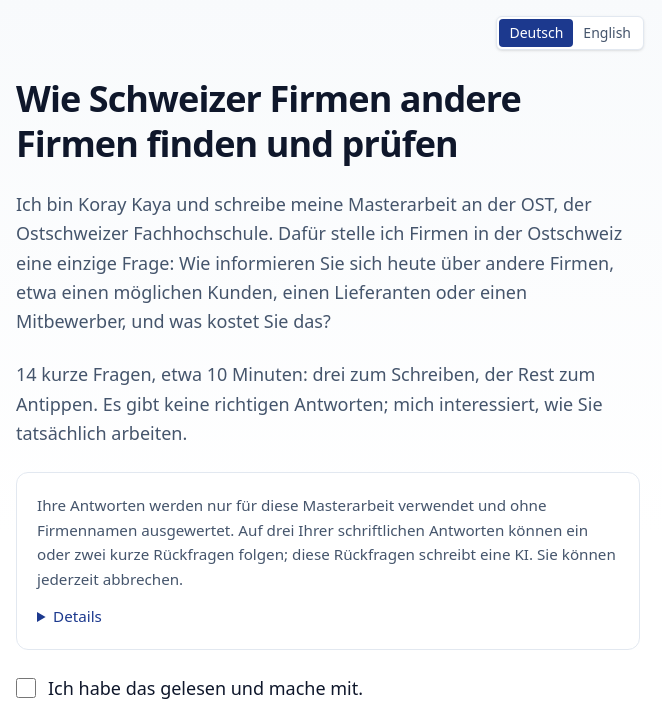
Test: Form › switches language on the welcome screen
The image size is (662, 726).
Expected: the heading "Wie Schweizer Firmen andere Firmen finden und prüfen" is shown, [16,74,521,168]
Click the button "English" at (607, 33), box [573,19,641,47]
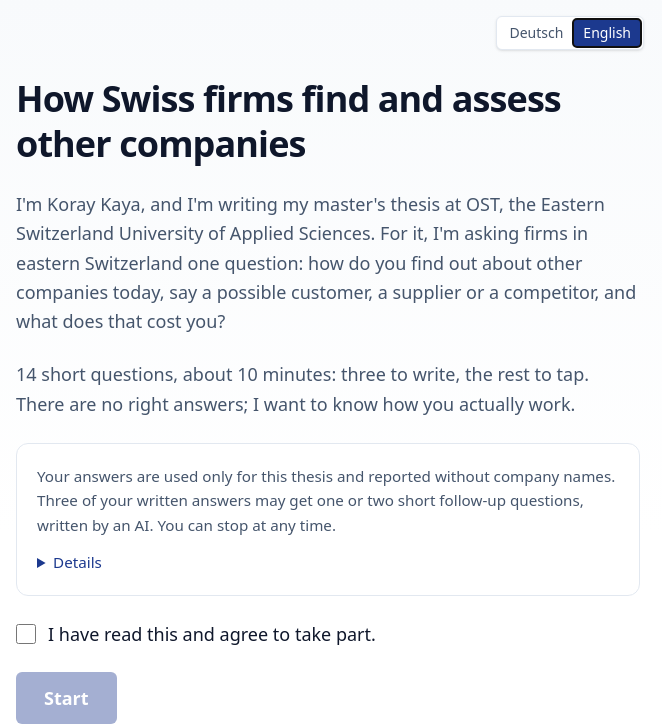
Result: the heading "How Swiss firms find and assess other companies" is shown at [16,76,640,166]
